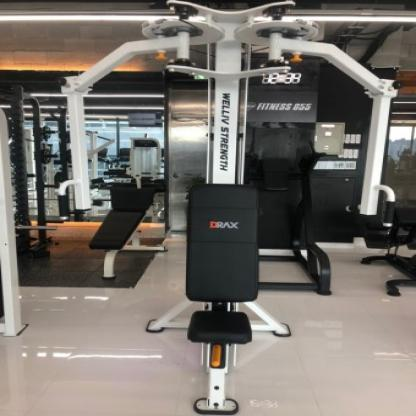chest fly machine: (18, 1, 410, 416)
